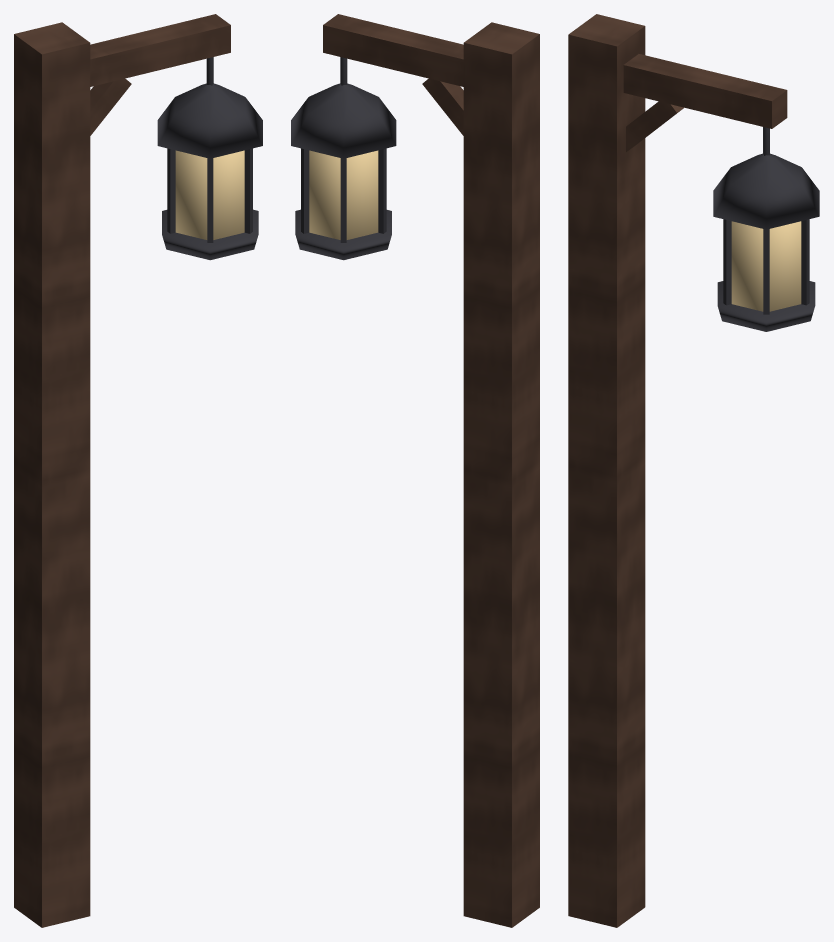
File: lantern.glb
The picture shows the model from 3 angles, left to right: view 1: azimuth 30°, elevation 25°; view 2: azimuth 150°, elevation 25°; view 3: azimuth 330°, elevation 25°; orthographic projection.
Parts seen in each view (by area): view 1: lantern; view 2: lantern; view 3: lantern.
Boxes of the visible parts, x1,y1,x2,y2 form: lantern: (14,14,262,927); lantern: (291,14,539,927); lantern: (568,14,819,927).
Bounding box in the file's own units: 0.535 × 1.9 × 0.2078.
3 materials, 1 textured.
